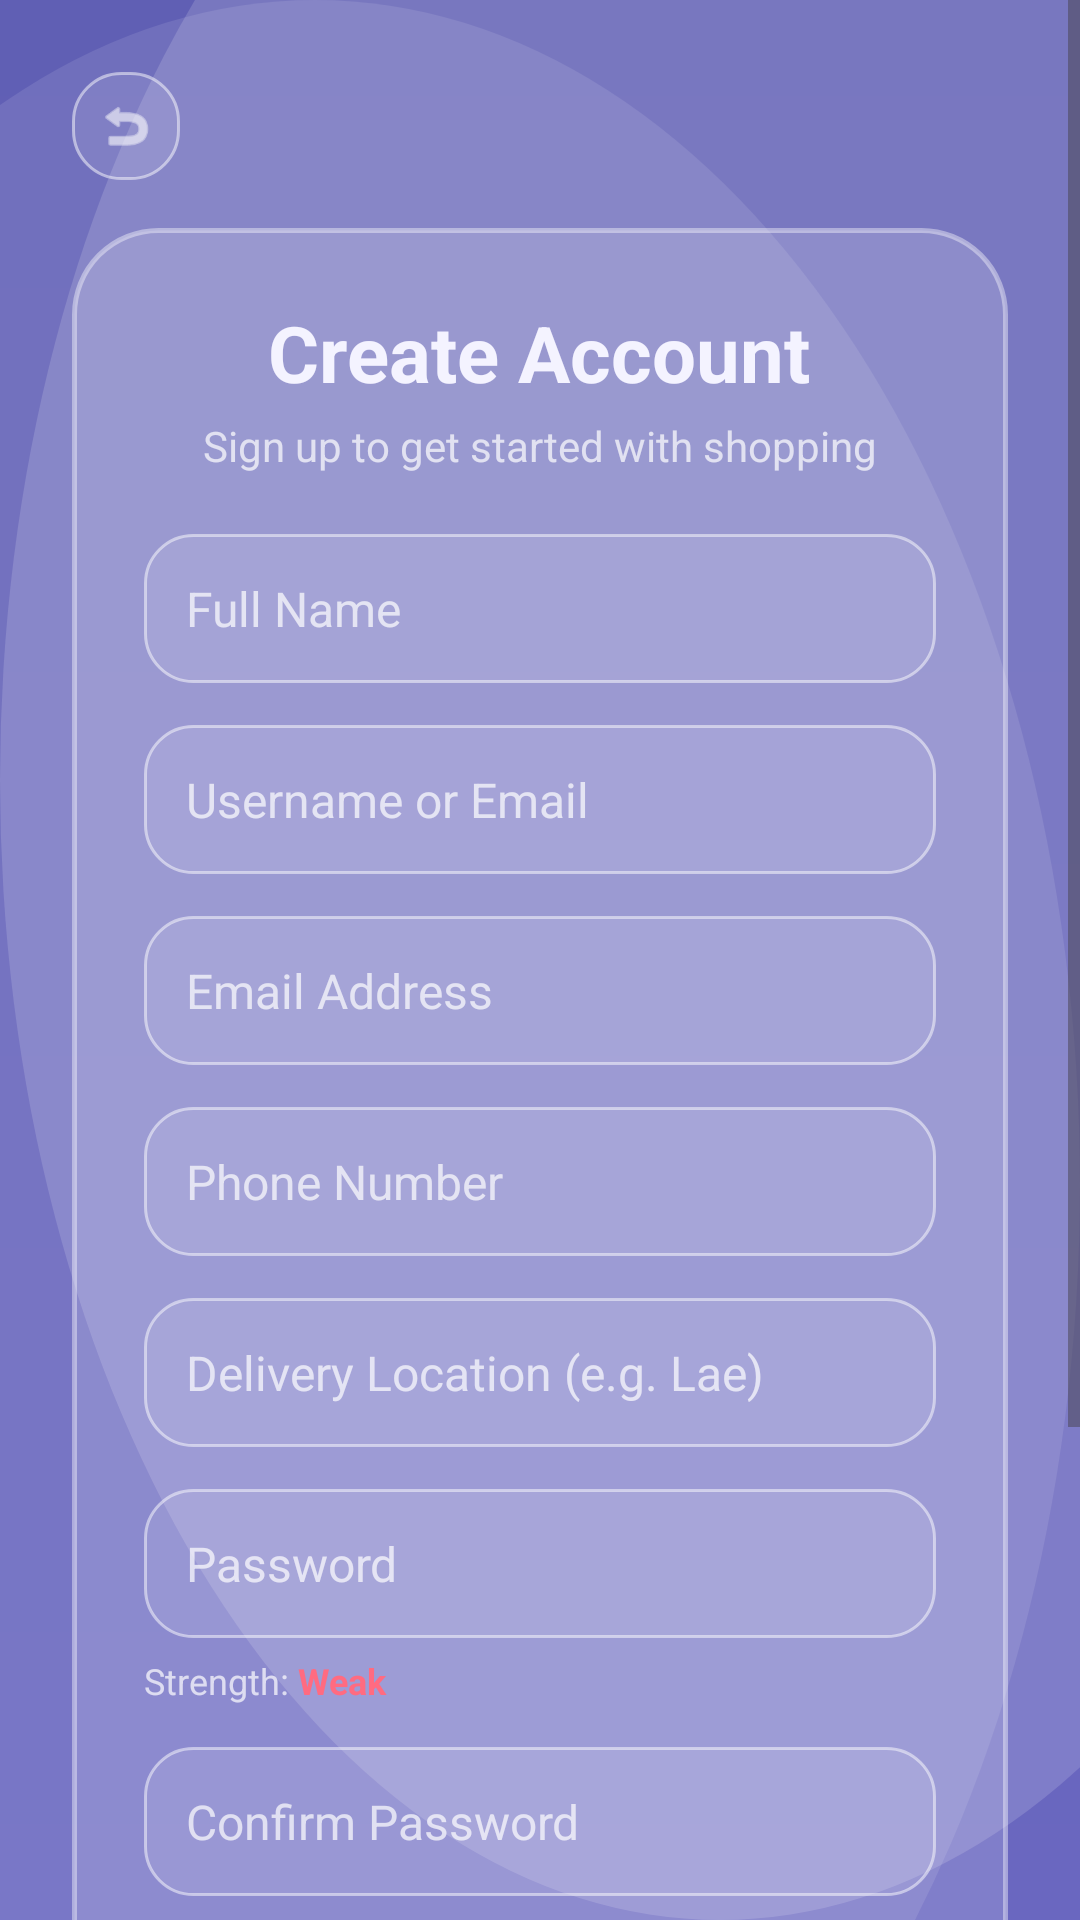

Screen size 1080px×1920px. Icon name, then its box in pixels as (x1, y1, x2, y2):
revert: (72, 72, 180, 180)
